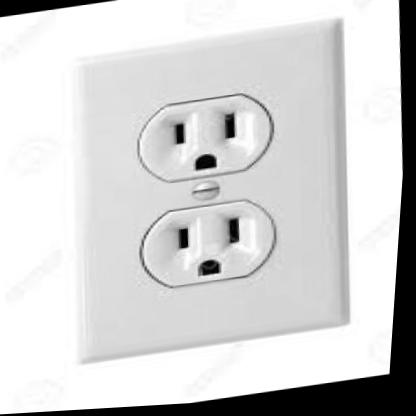OUTLET: (52, 18, 371, 365)
